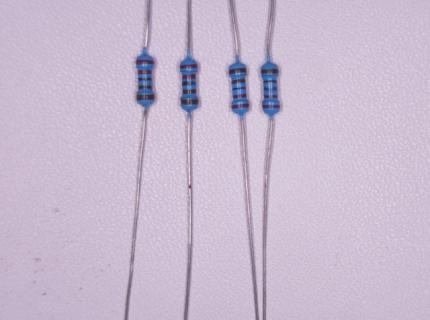Black band: (182, 80, 197, 87), (232, 86, 247, 91), (263, 87, 278, 92), (138, 77, 152, 82)
Brown band: (228, 68, 246, 75), (136, 95, 155, 101), (180, 99, 199, 105), (260, 69, 278, 74), (183, 89, 197, 95), (232, 79, 246, 84), (264, 79, 278, 84), (138, 85, 152, 90)
Red band: (232, 103, 249, 109), (136, 60, 155, 65), (262, 105, 280, 109), (138, 70, 152, 75), (180, 65, 197, 69), (233, 94, 246, 99), (182, 75, 196, 79), (264, 95, 277, 99)
